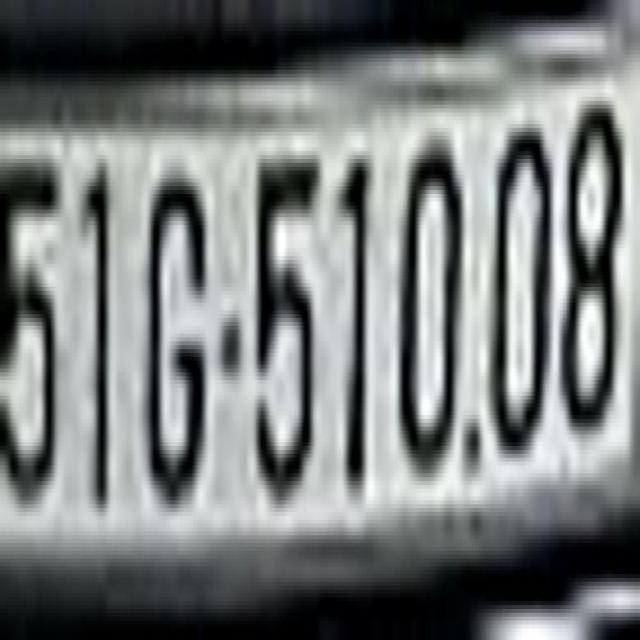0: (490, 70, 554, 473), (399, 109, 458, 488)
1: (330, 112, 380, 500), (73, 120, 120, 528)
5: (252, 132, 318, 504), (1, 104, 54, 520)
8: (562, 66, 621, 454)
G: (146, 132, 208, 527)
